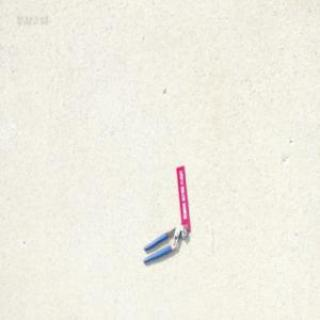LuggageTagtrack_idkeyframe: (176, 162, 190, 228)
Pliertrack_idkeyframe: (142, 222, 186, 263)
